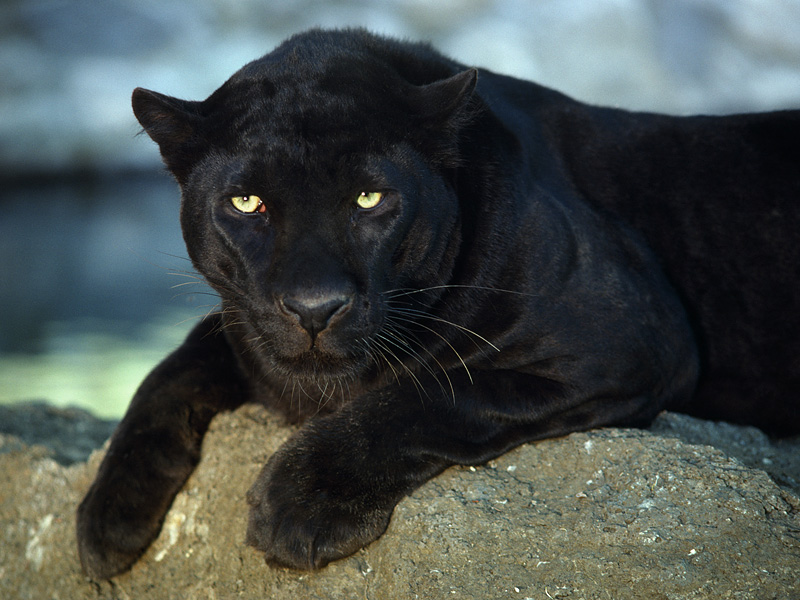panther: (71, 23, 800, 589)
